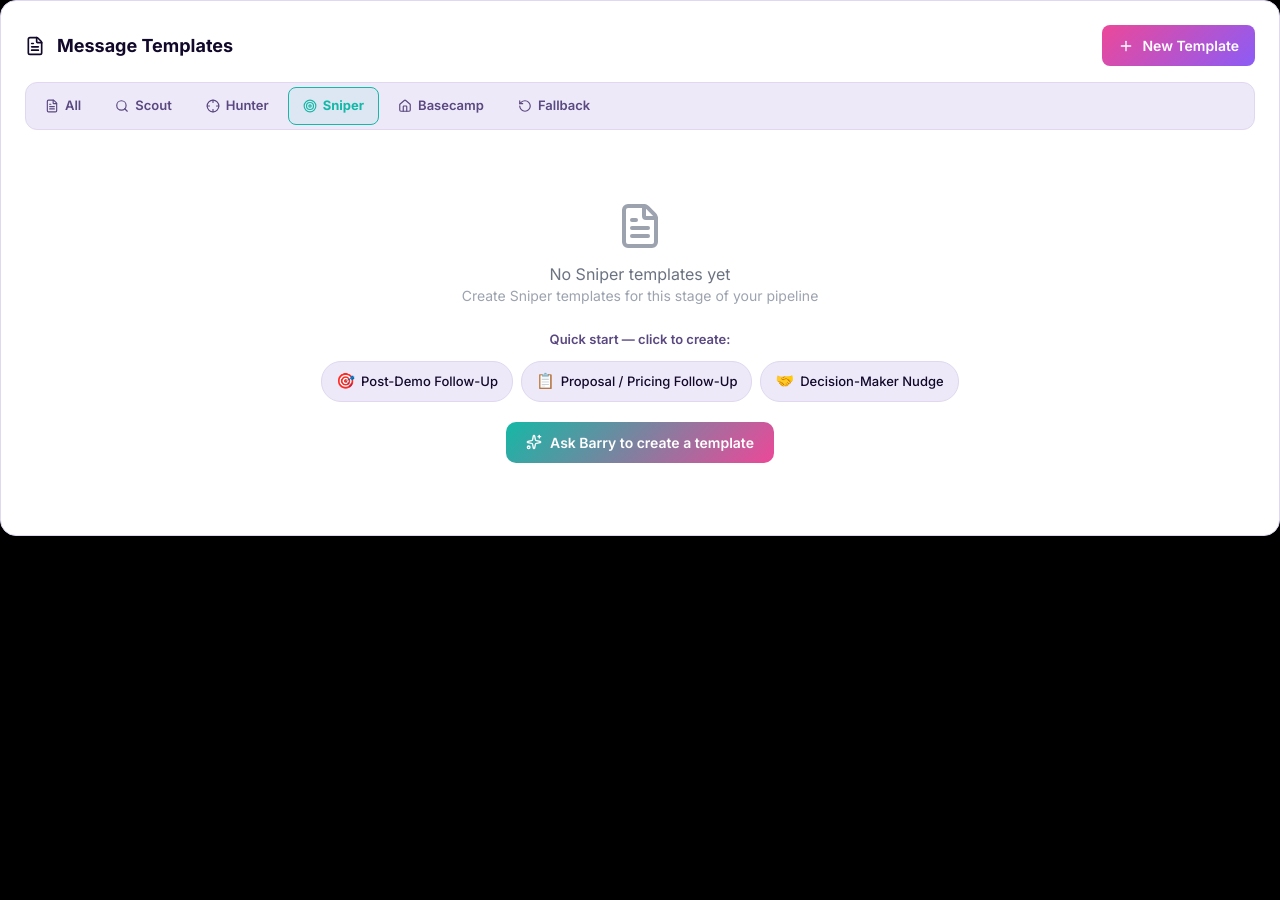
Scenario: TemplateLibrary — Ask Barry from the empty state › greets with the active tab's stage, not the previous one
Click the button "Ask Barry to create a template": [640, 442] box [506,422,774,462]
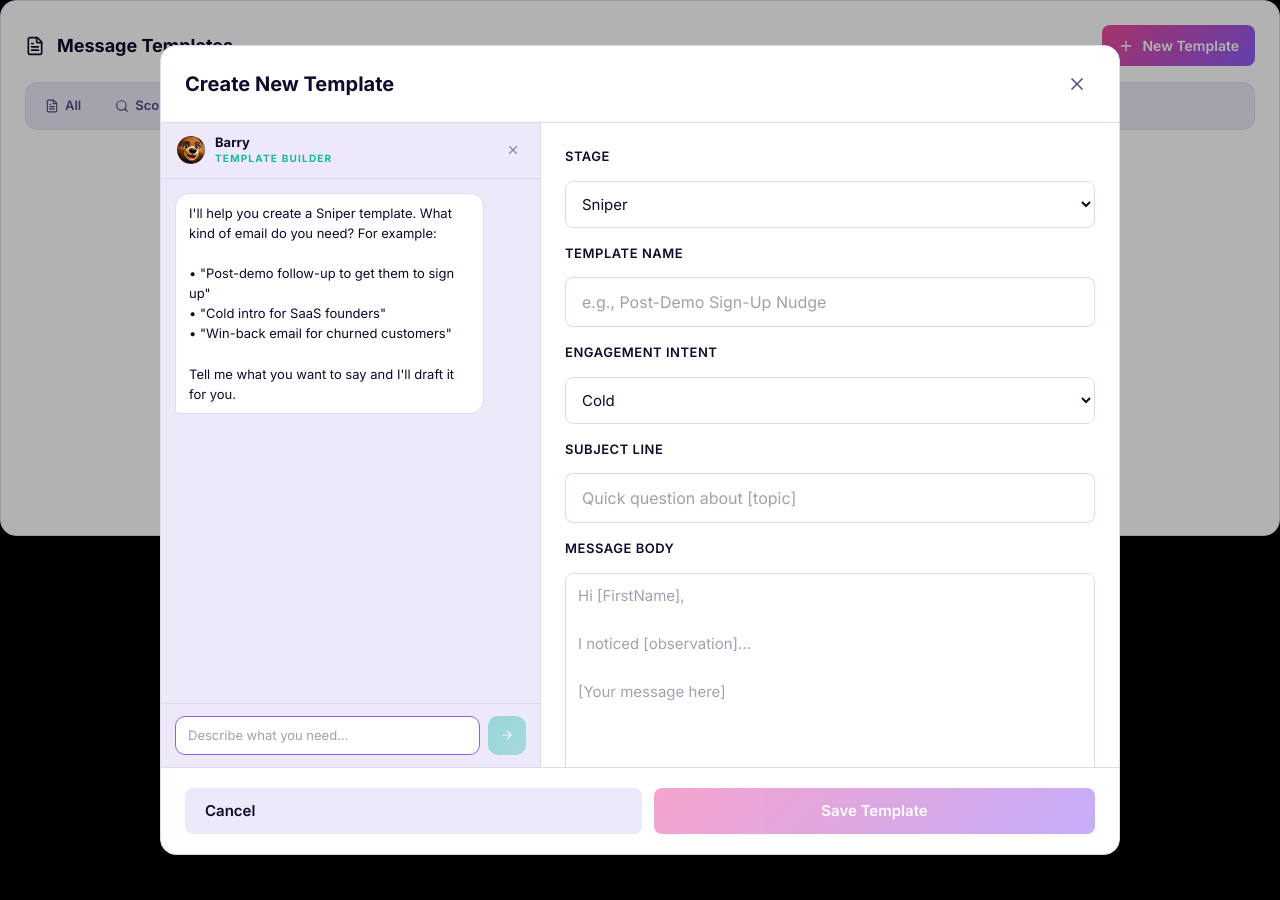
Result: the text "create a Sniper template" is shown at [189,205,458,402]
